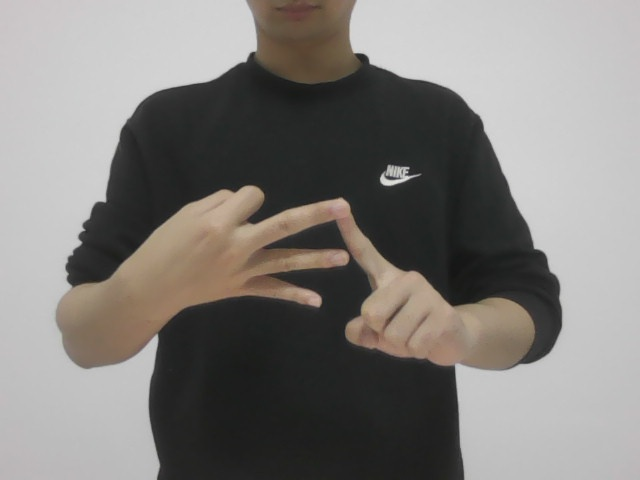name: (160, 192, 466, 381)
